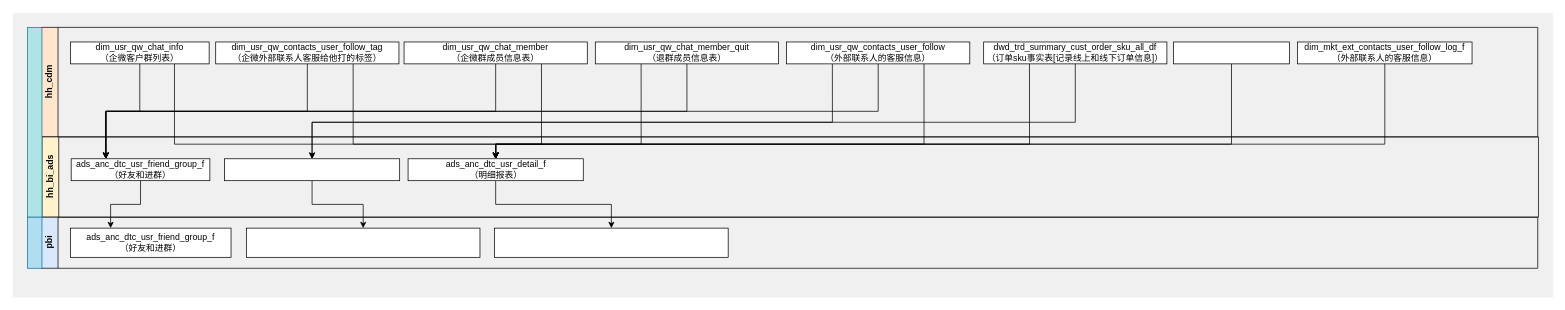
The diagram is 1565 pixels wide and 310 high, and some of its shapes have lost their labels. The centre of each missing label's shape, as x and y in pixels:
"ads_anc_dtc_usr_detail_f (明细报表 )" belongs at (611,242).
"ads_anc_dtc_usr_payment_behavior_f (下单和复购)" belongs at (363,242).
"ads_anc_dtc_usr_payment_behavior_f （下单和复购）" belongs at (312,169).
"dataphin" belongs at (34,122).
"dim_usr_member （会员）" belongs at (1231,52).
"hologeres" belongs at (34,242).
